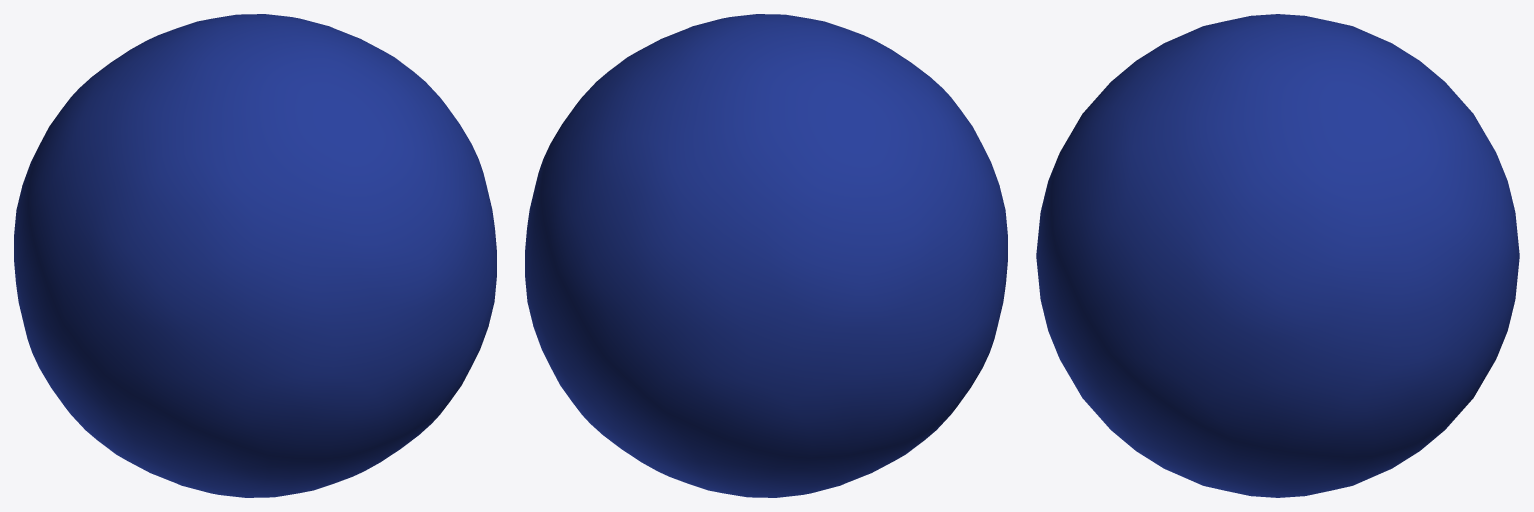
File: sheen.glb
The picture shows the model from 3 angles, left to right: view 1: azimuth 30°, elevation 25°; view 2: azimuth 150°, elevation 25°; view 3: azimuth 270°, elevation 25°; orthographic projection.
Parts seen in each view (by area): view 1: Icosphere; view 2: Icosphere; view 3: Icosphere.
Part boxes in pixels (x1,y1,x2,y2): Icosphere: (14, 14, 496, 497); Icosphere: (525, 14, 1007, 497); Icosphere: (1036, 14, 1519, 497).
Size of the model in its own units: 1.85 by 1.86 by 1.85.
